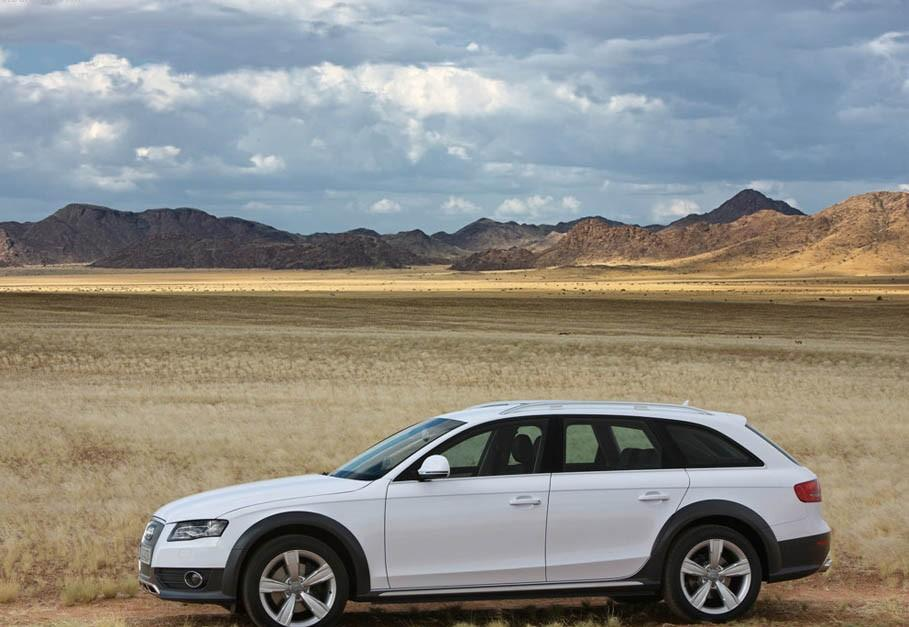Wagon: (135, 397, 834, 627)
